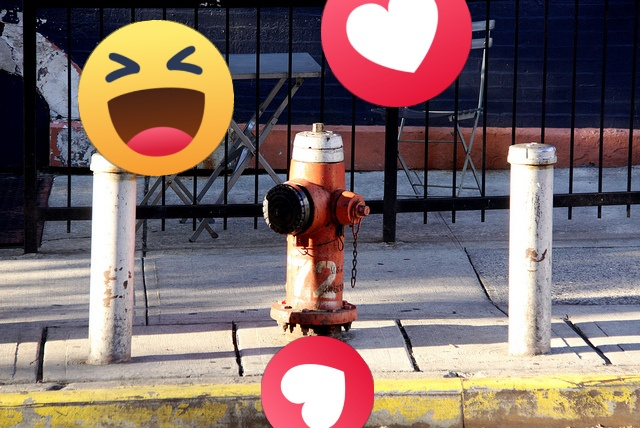haha: (78, 20, 234, 176)
love: (321, 0, 472, 107), (261, 336, 374, 428)
